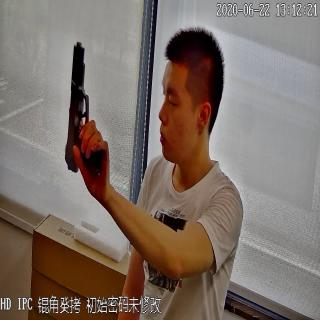gun: (58, 40, 113, 175)
